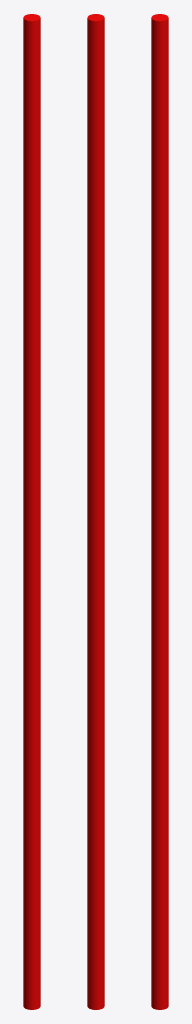
Rendered from roll_4670_collision_convex_cylinder.obj.
The picture shows the model from 3 angles, left to right: view 1: azimuth 90°, elevation 25°; view 2: azimuth 150°, elevation 25°; view 3: azimuth 270°, elevation 25°; orthographic projection.
Visible parts, largest first — view 1: roll_4670_collision_convex_cylinder; view 2: roll_4670_collision_convex_cylinder; view 3: roll_4670_collision_convex_cylinder.
Part boxes in pixels (x1,y1,x2,y2): roll_4670_collision_convex_cylinder: (23, 14, 40, 1009); roll_4670_collision_convex_cylinder: (87, 14, 104, 1009); roll_4670_collision_convex_cylinder: (151, 14, 168, 1009).
Bounding box in the file's own units: 0.0875 × 5.6 × 0.0875.
